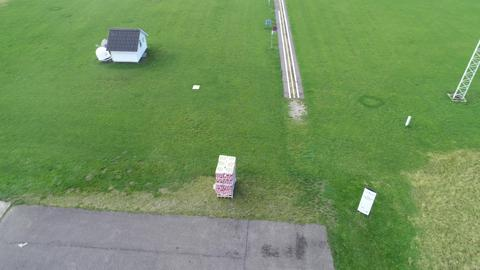RockwoolPallet: (214, 154, 238, 199)
